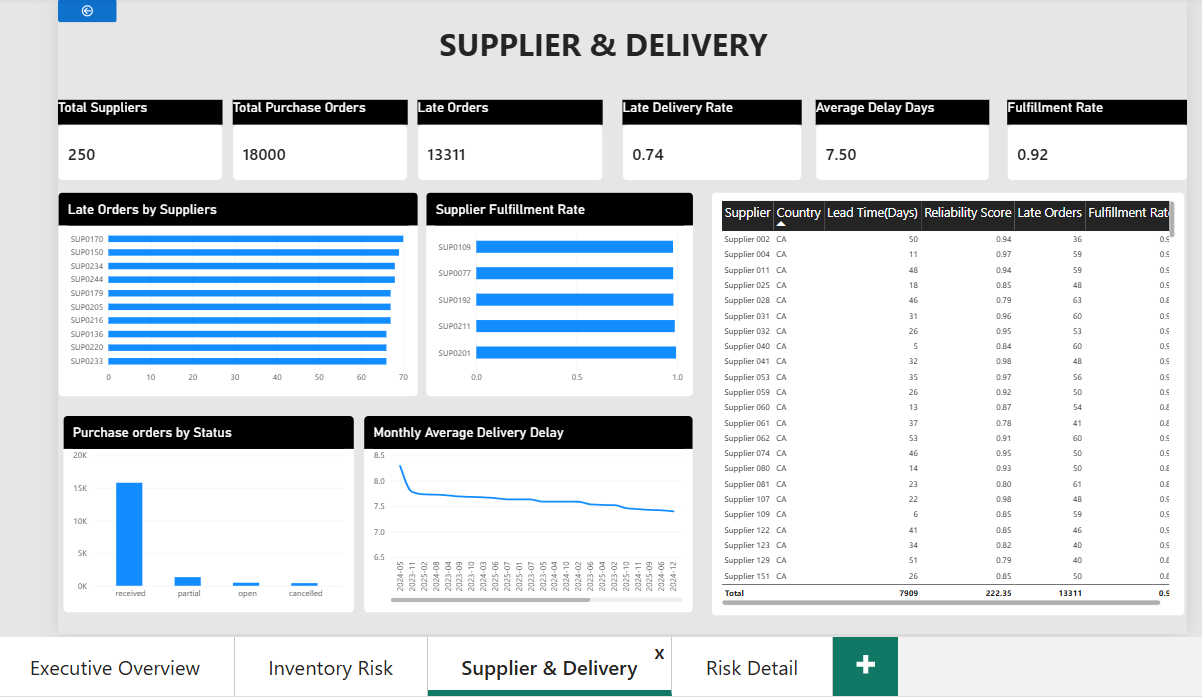

What the dashboard file says about the page in this screenshot:
{"tool":"powerbi","page":{"name":"Supplier & Delivery","canvas":[1920,1080],"ordinal":2},"visuals":[{"type":"cardVisual","title":"Total Suppliers","fields":{"Data":["Count(suppliers.supplier_id)"]},"box":[0,172.5,280,137.5],"z":0},{"type":"cardVisual","title":"Late Orders","fields":{"Data":["purchase_orders.Late Orders"]},"box":[612.5,172.5,315,137.5],"z":1000},{"type":"cardVisual","title":"Fulfillment Rate","fields":{"Data":["purchase_order_lines.Fulfillment rate"]},"box":[1615,172.5,307.5,137.5],"z":2000},{"type":"cardVisual","title":"Average Delay Days","fields":{"Data":["purchase_orders.Average Delay Days"]},"box":[1290,172.5,295,137.5],"z":3000},{"type":"cardVisual","title":"Total Purchase Orders","fields":{"Data":["Count(purchase_orders.purchase_order_id)"]},"box":[297.5,172.5,297.5,137.5],"z":4000},{"type":"cardVisual","title":"Late Delivery Rate","fields":{"Data":["purchase_orders.Late Delivery Rate"]},"box":[960,172.5,305,137.5],"z":5000},{"type":"clusteredBarChart","title":"Late Orders by Suppliers","fields":{"Category":["suppliers.supplier_id"],"Y":["purchase_orders.Late Orders"]},"box":[0,327.5,612.5,347.5],"z":6000},{"type":"clusteredBarChart","title":"Supplier Fulfillment Rate","fields":{"Category":["purchase_orders.supplier_id"],"Y":["purchase_order_lines.Fulfillment rate"]},"box":[625.4,328.3,455,347.5],"z":7000},{"type":"lineChart","title":"Monthly Average Delivery Delay","fields":{"Category":["DateTable.Year Month"],"Y":["purchase_orders.Average Delay Days"]},"box":[520,710,560,335],"z":8000},{"type":"columnChart","title":"Purchase orders by Status","fields":{"Category":["purchase_orders.status"],"Y":["CountNonNull(purchase_orders.purchase_order_id)"]},"box":[7.5,710,495,335],"z":9000},{"type":"tableEx","fields":{"Values":["suppliers.supplier_name","suppliers.country_code","Avg(suppliers.lead_time_days)","Avg(suppliers.reliability_score)","purchase_orders.Late Orders","purchase_order_lines.Supplier Fulfillment Rate"]},"box":[1114.3,328.6,805,720],"z":10000},{"type":"actionButton","box":[0,0,100,40],"z":11000},{"type":"textbox","box":[150,40,1552.5,115],"z":12000}]}

Visuals, with their boxes on the page's 1920x1080 design canvas (x1, y1, x2, y2). These are canvas units, not pixel positions in the 1202x697 screenshot, which may show the page scaled, cropped or inside an application window:
"Total Suppliers" cardVisual: (x1=0, y1=172, x2=280, y2=310)
"Late Orders" cardVisual: (x1=612, y1=172, x2=928, y2=310)
"Fulfillment Rate" cardVisual: (x1=1615, y1=172, x2=1922, y2=310)
"Average Delay Days" cardVisual: (x1=1290, y1=172, x2=1585, y2=310)
"Total Purchase Orders" cardVisual: (x1=298, y1=172, x2=595, y2=310)
"Late Delivery Rate" cardVisual: (x1=960, y1=172, x2=1265, y2=310)
"Late Orders by Suppliers" clusteredBarChart: (x1=0, y1=328, x2=612, y2=675)
"Supplier Fulfillment Rate" clusteredBarChart: (x1=625, y1=328, x2=1080, y2=676)
"Monthly Average Delivery Delay" lineChart: (x1=520, y1=710, x2=1080, y2=1045)
"Purchase orders by Status" columnChart: (x1=8, y1=710, x2=502, y2=1045)
tableEx - suppliers.supplier_name x suppliers.country_code: (x1=1114, y1=329, x2=1919, y2=1049)
actionButton: (x1=0, y1=0, x2=100, y2=40)
textbox: (x1=150, y1=40, x2=1702, y2=155)
